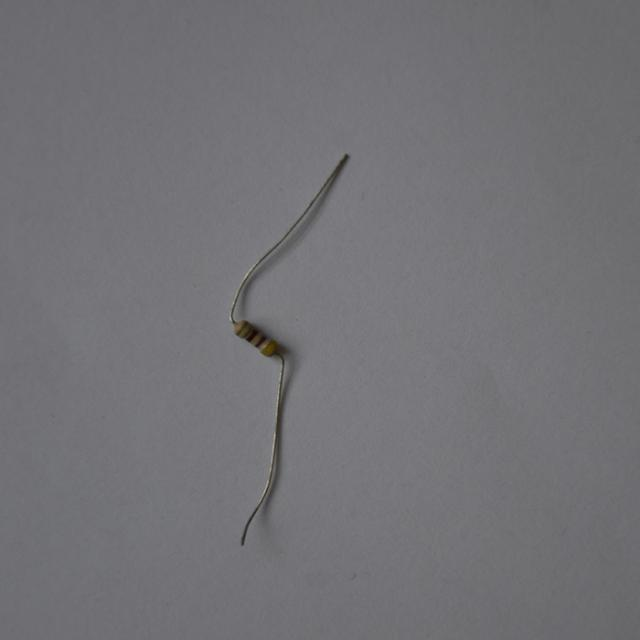brown: (246, 327, 259, 341)
gold: (237, 321, 249, 337)
resistor: (223, 310, 292, 369)
violet: (254, 335, 265, 347)
yellow: (261, 339, 275, 356)
